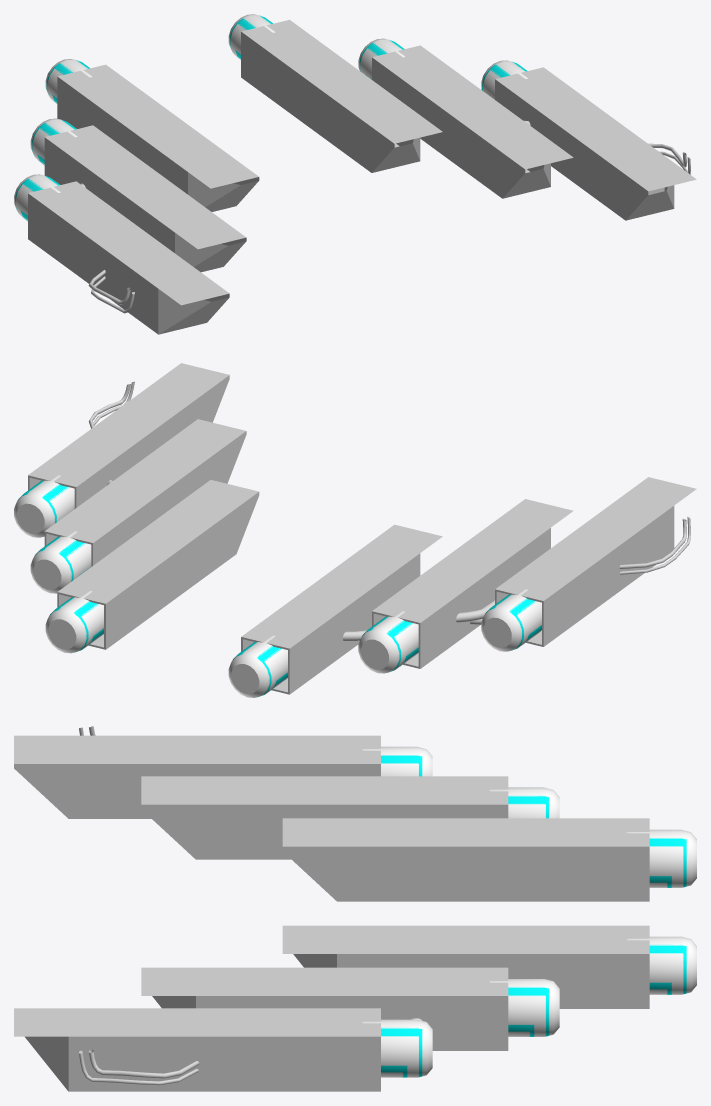
File: buckshot_class1.FBX
3 views of the same model, one above another, from view 1: azimuth 30°, elevation 25°; view 2: azimuth 150°, elevation 25°; view 3: azimuth 270°, elevation 25° (orthographic). The views are drawn at different scales.
Parts seen in each view (by area): view 1: Box001, Shot2, Shot4, Shot3, Shot5, shot1, shot0; view 2: Box001, Shot4, Shot2, shot0, shot1, Shot3, Shot5; view 3: Box001, Shot5, Shot3, shot1, shot0, Shot2, Shot4.
Part boxes in pixels (x1,y1,x2,y2): Box001: (28, 19, 696, 334); Shot2: (30, 118, 77, 165); Shot4: (14, 174, 60, 221); Shot3: (358, 38, 404, 79); Shot5: (481, 60, 527, 99); shot1: (228, 14, 275, 59); shot0: (45, 59, 92, 103); Box001: (28, 363, 696, 694); Shot4: (481, 589, 541, 651); Shot2: (358, 611, 418, 673); shot0: (228, 635, 287, 697); shot1: (45, 591, 103, 653); Shot3: (30, 531, 91, 593); Shot5: (14, 475, 74, 537); Box001: (14, 726, 649, 1091); Shot5: (362, 1019, 432, 1077); Shot3: (489, 979, 559, 1036); shot1: (627, 936, 696, 994); shot0: (626, 829, 696, 887); Shot2: (489, 787, 559, 818); Shot4: (362, 746, 432, 776).
Size of the model in its own units: 861 by 65.72 by 735.
